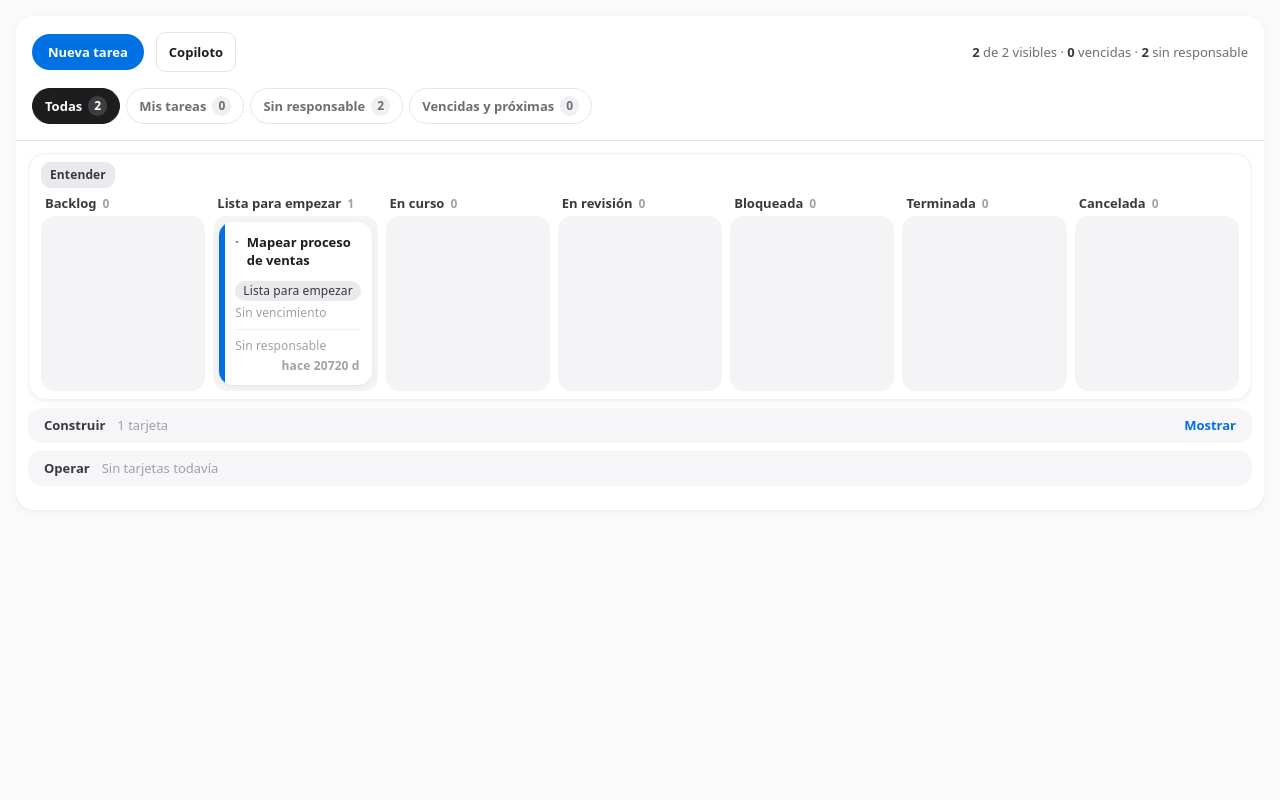
Test: contrato visual de proyectos y tareas › con stage ENTENDER el carril Construir nace plegado y «Mostrar» lo abre
Expected: the button with test id "task-card-t1" is shown, [219,222,372,385]
Expected: the element with test id "lane-CONSTRUIR-plegado" is shown, [28,408,1252,443]
Click the button with test id "lane-CONSTRUIR-mostrar" at (1210, 426), box [1184,416,1236,435]
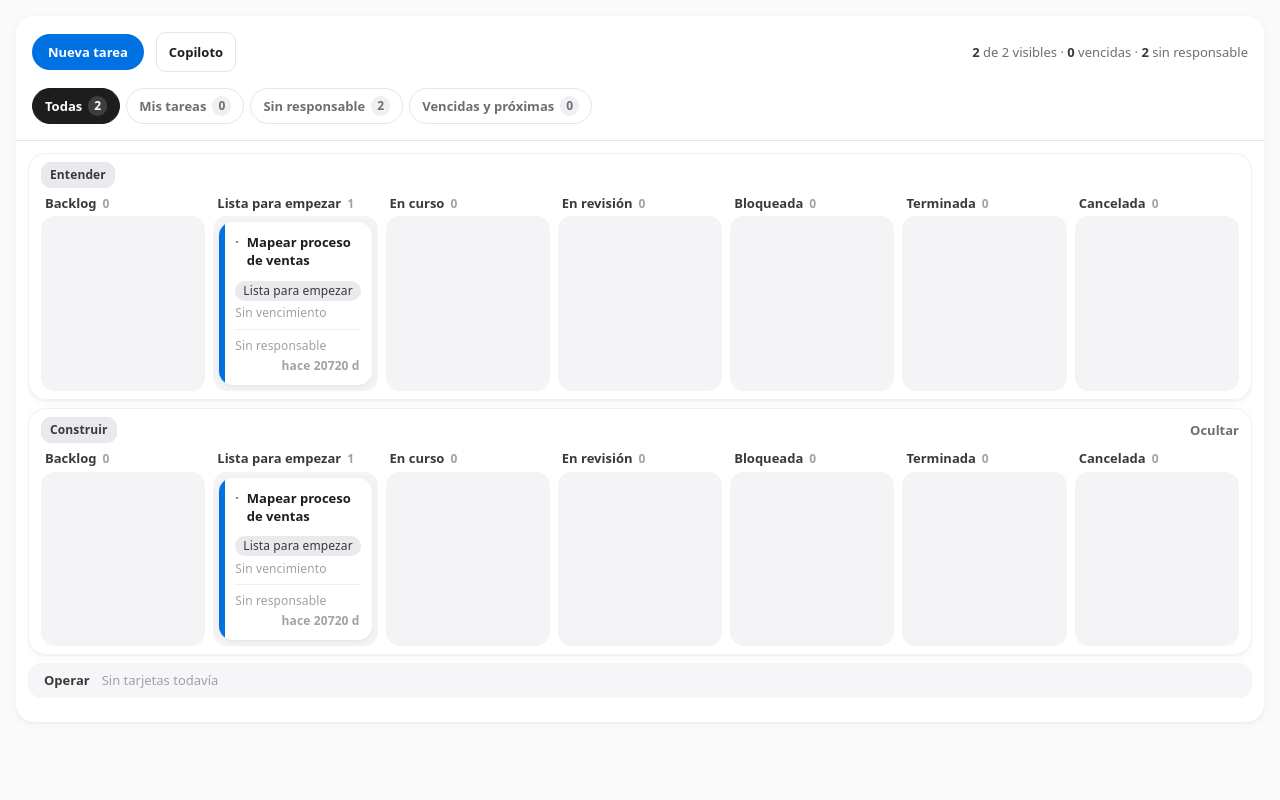
Now the button with test id "task-card-t2" is shown, box [219,478,372,640]
Now the element with test id "lane-CONSTRUIR-plegado" is gone
